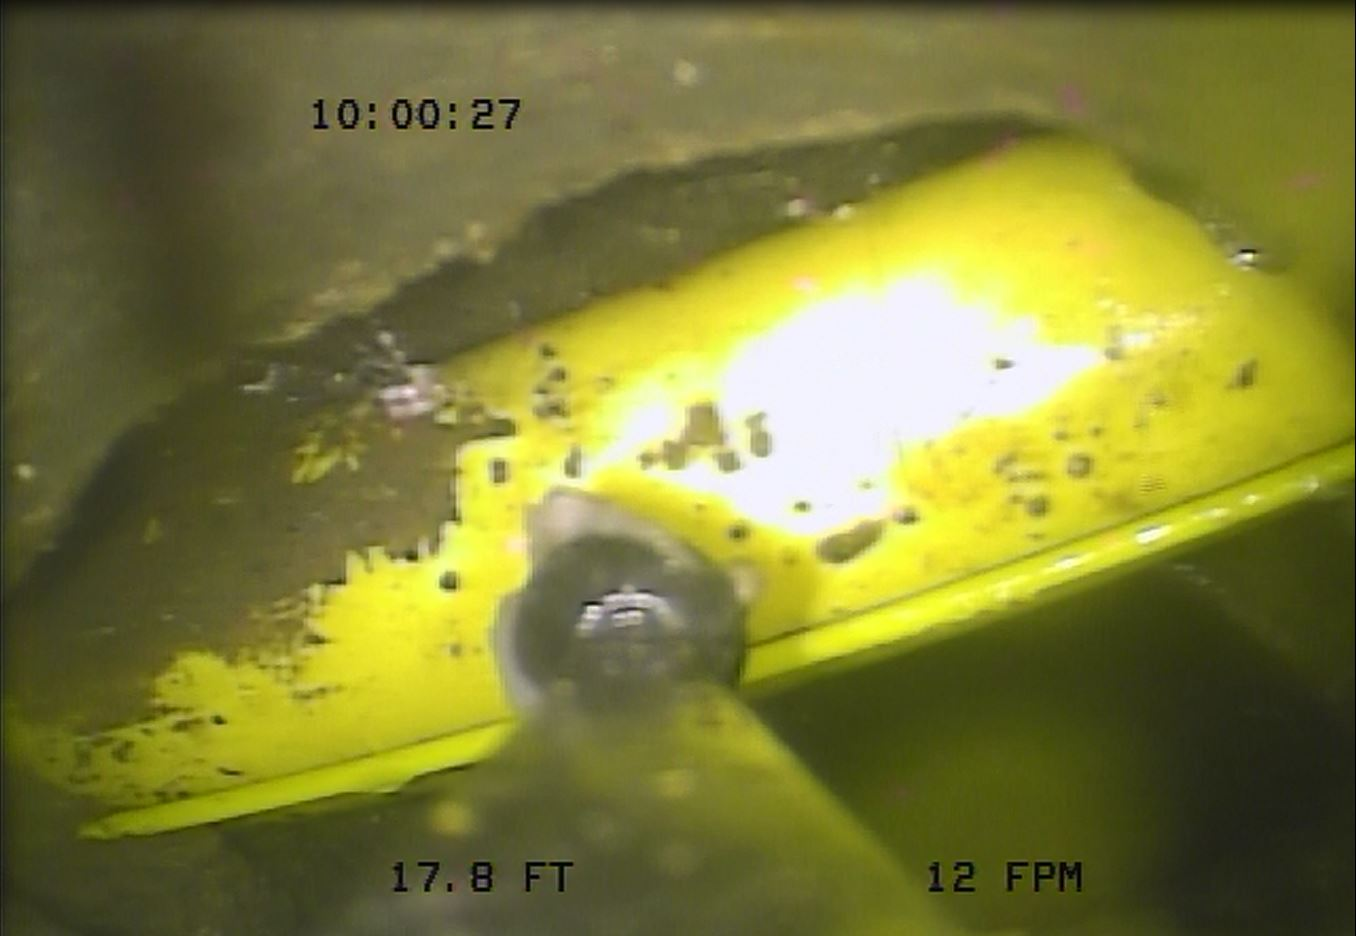cb: (16, 146, 1341, 827)
